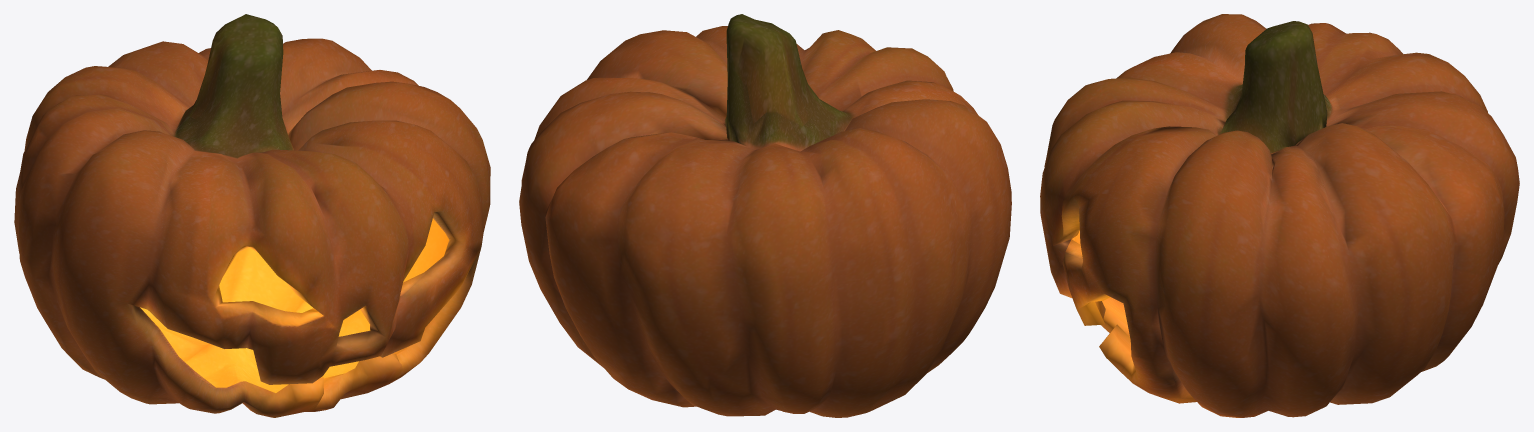
3 renders of one model, left to right at view 1: azimuth 30°, elevation 25°; view 2: azimuth 150°, elevation 25°; view 3: azimuth 270°, elevation 25°, orthographic. The views are drawn at different scales.
Visible parts, largest first — view 1: Halloween Pumpkin; view 2: Halloween Pumpkin; view 3: Halloween Pumpkin.
Part boxes in pixels (bbox=[...]): Halloween Pumpkin: bbox=[14, 14, 490, 417]; Halloween Pumpkin: bbox=[519, 14, 1011, 417]; Halloween Pumpkin: bbox=[1040, 14, 1519, 417].
Size of the model in its own units: 0.2837 by 0.2294 by 0.2817.
Materials: 1 (1 with a texture image).
